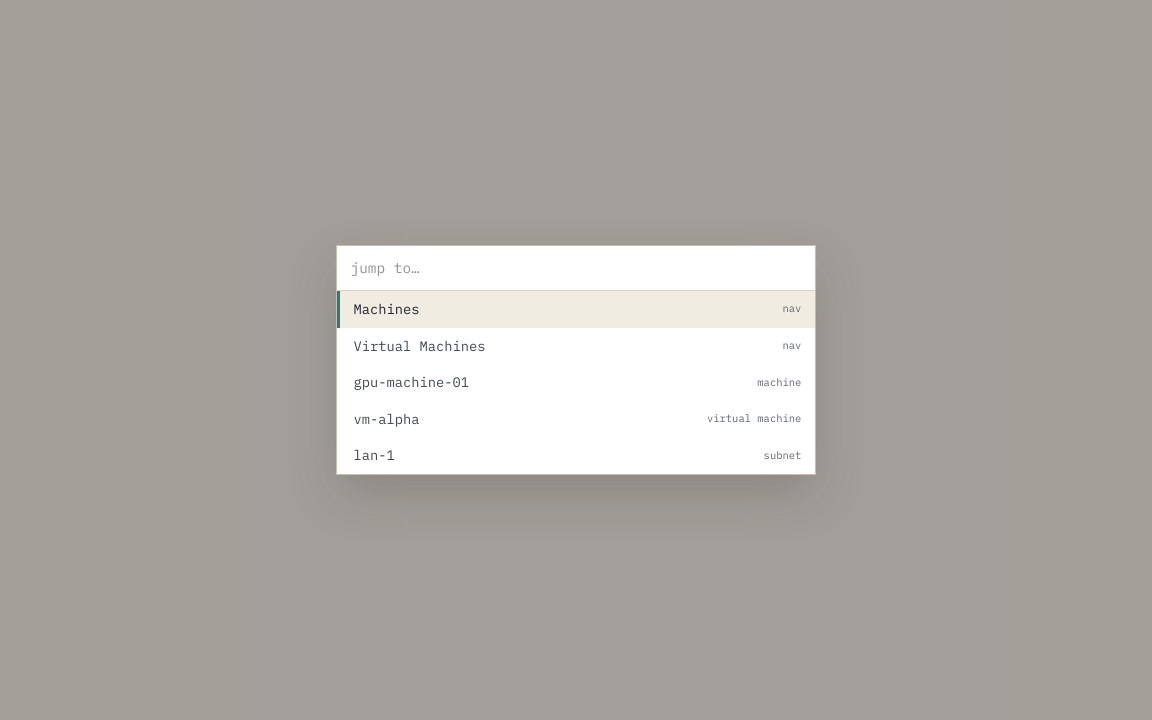
Test case: CommandPalette › filters entries as the user types
Expected: the number of options is 5, x1=337 y1=291 x2=815 y2=328; x1=354 y1=336 x2=801 y2=354; x1=354 y1=373 x2=801 y2=391; x1=354 y1=410 x2=801 y2=428; x1=354 y1=446 x2=801 y2=464
Type "alpha" into the field with placeholder "jump to…" at point(576, 268), box x1=337 y1=246 x2=815 y2=291
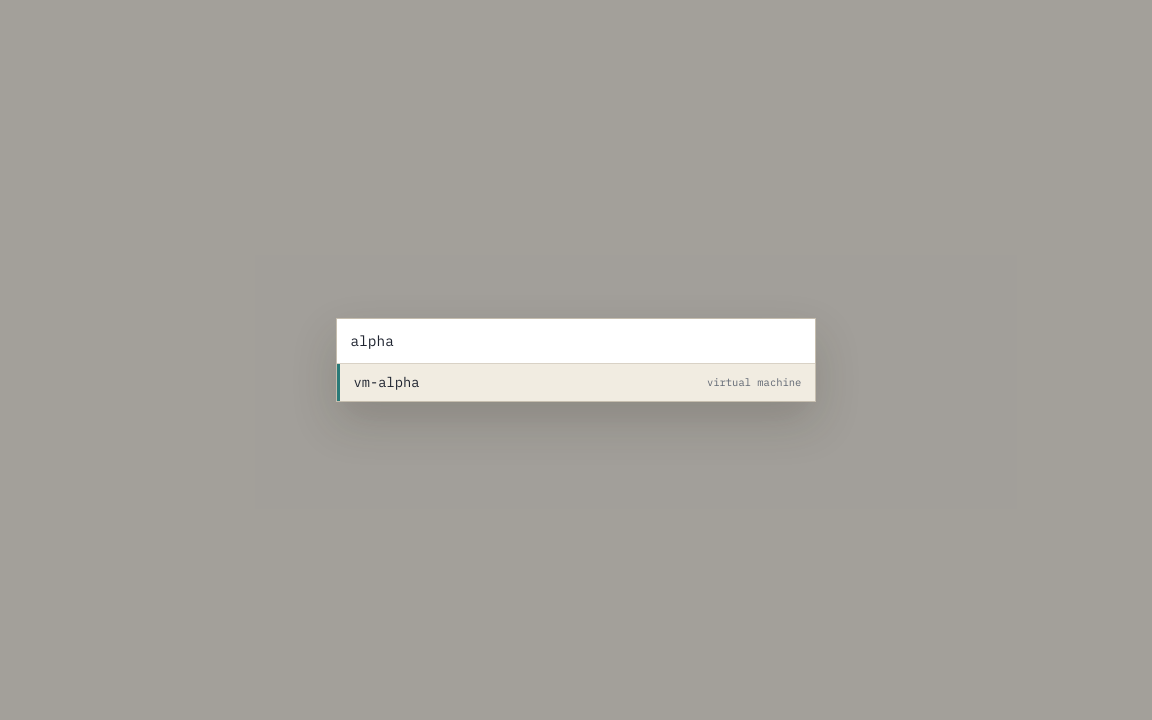
Expected: the option shows "vm-alpha", x1=337 y1=364 x2=815 y2=401
Now the number of options is 1, box x1=337 y1=364 x2=815 y2=401
